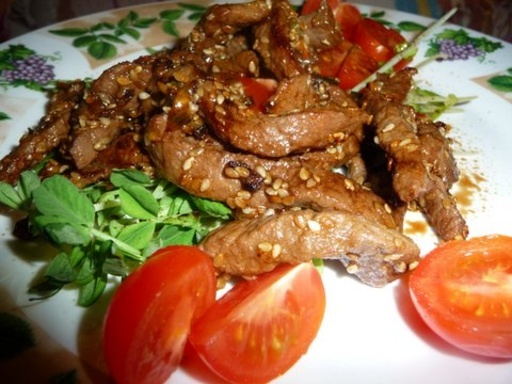background: (0, 0, 410, 230)
